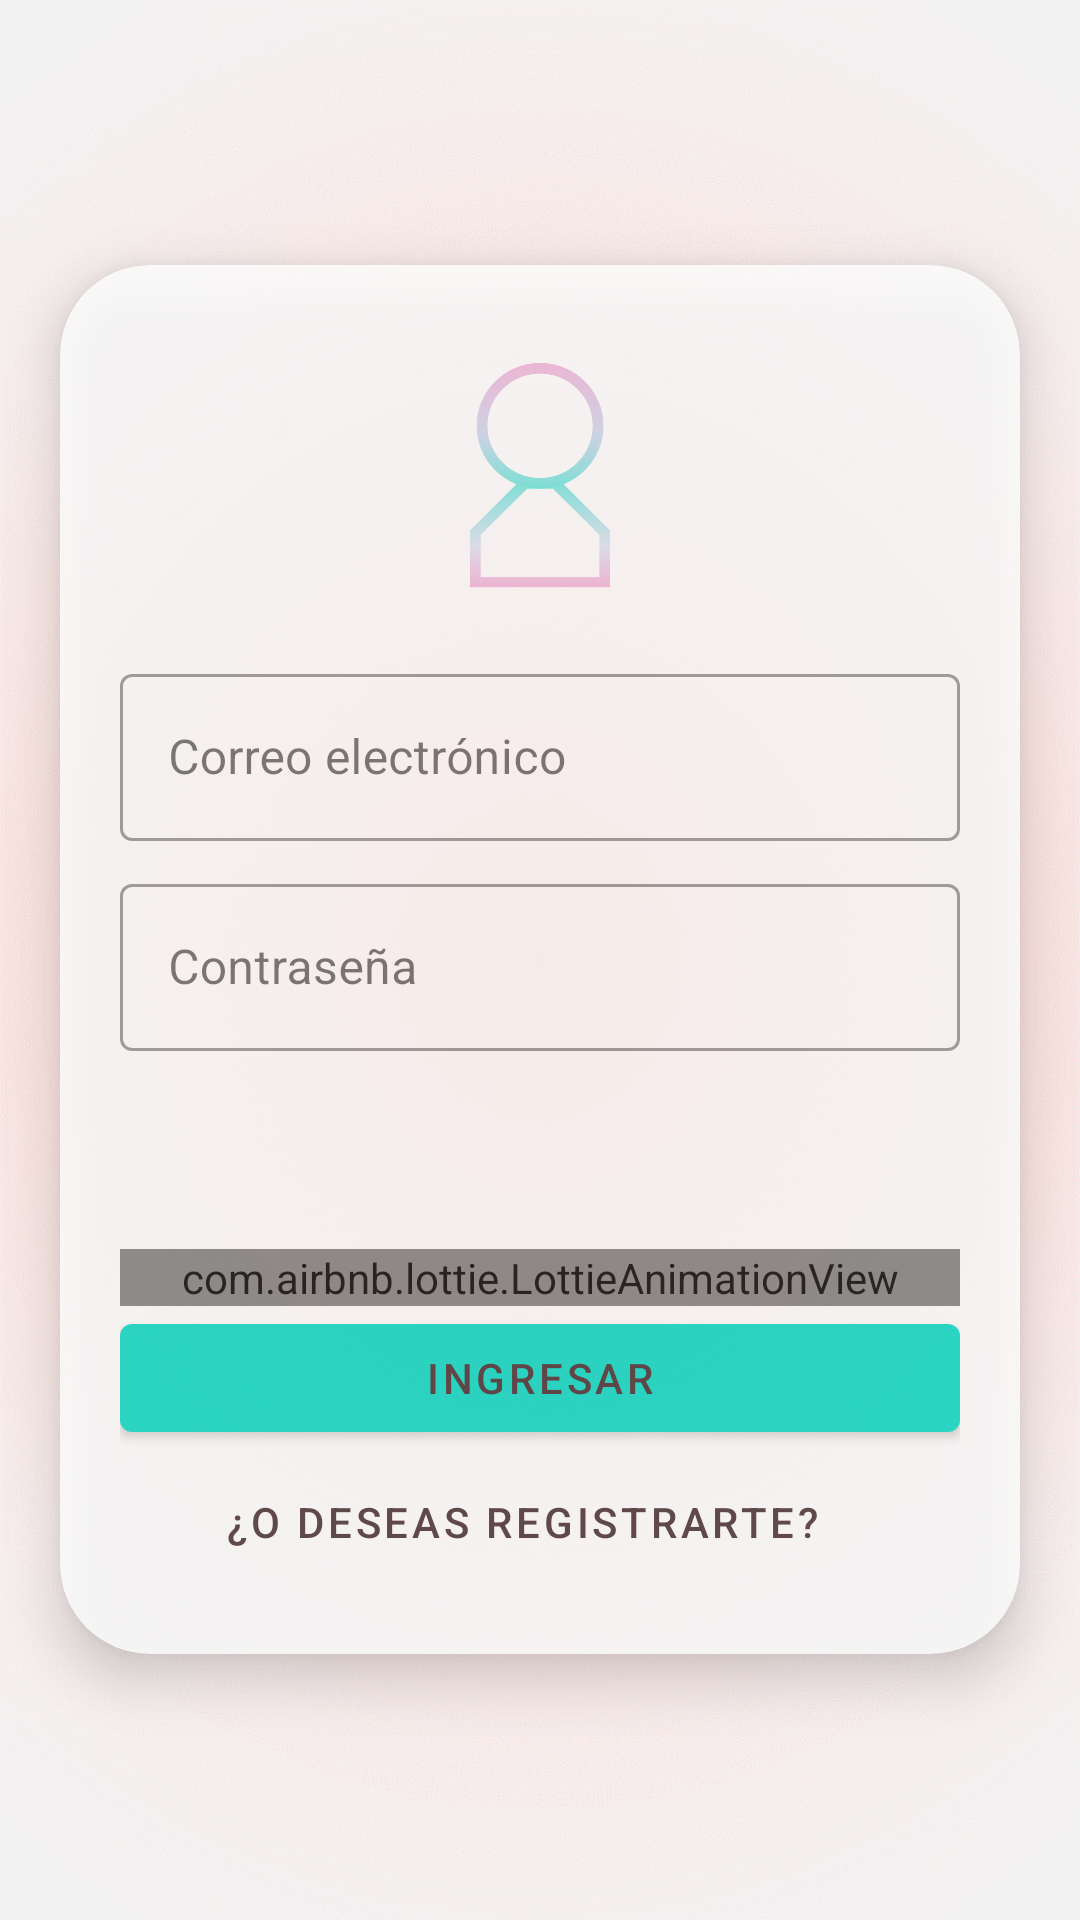

Locate icon controls on the screen. Image size 1080*1920, boxes as (x1, y1, x2, y2).
user: (470, 363, 610, 587)
